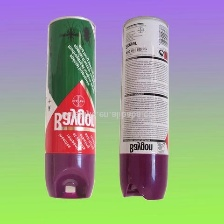aerosol_cans: (113, 12, 172, 203), (42, 15, 98, 205)
